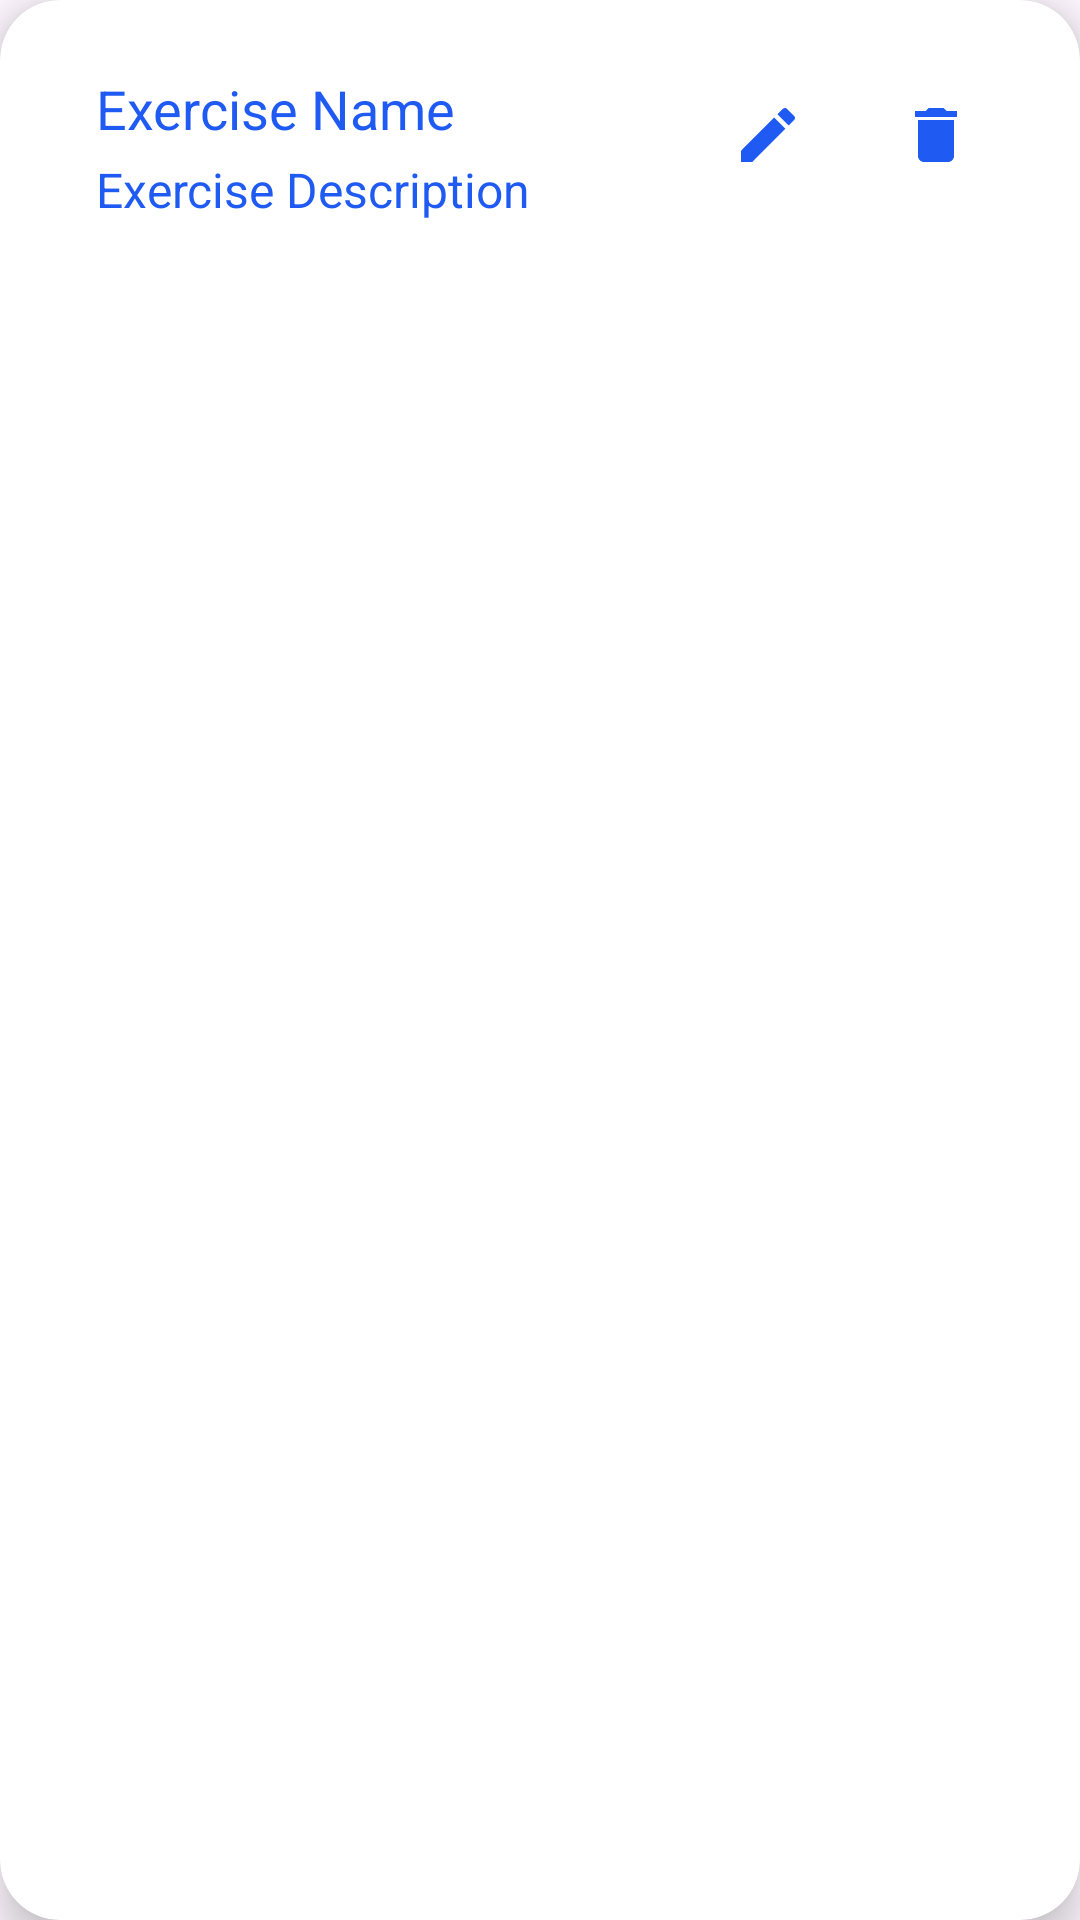

Where to tap for icons on this 1080x1920 app screen, as [x,y]:
Delete Exercise: [936,135]
Edit Exercise: [768,135]
